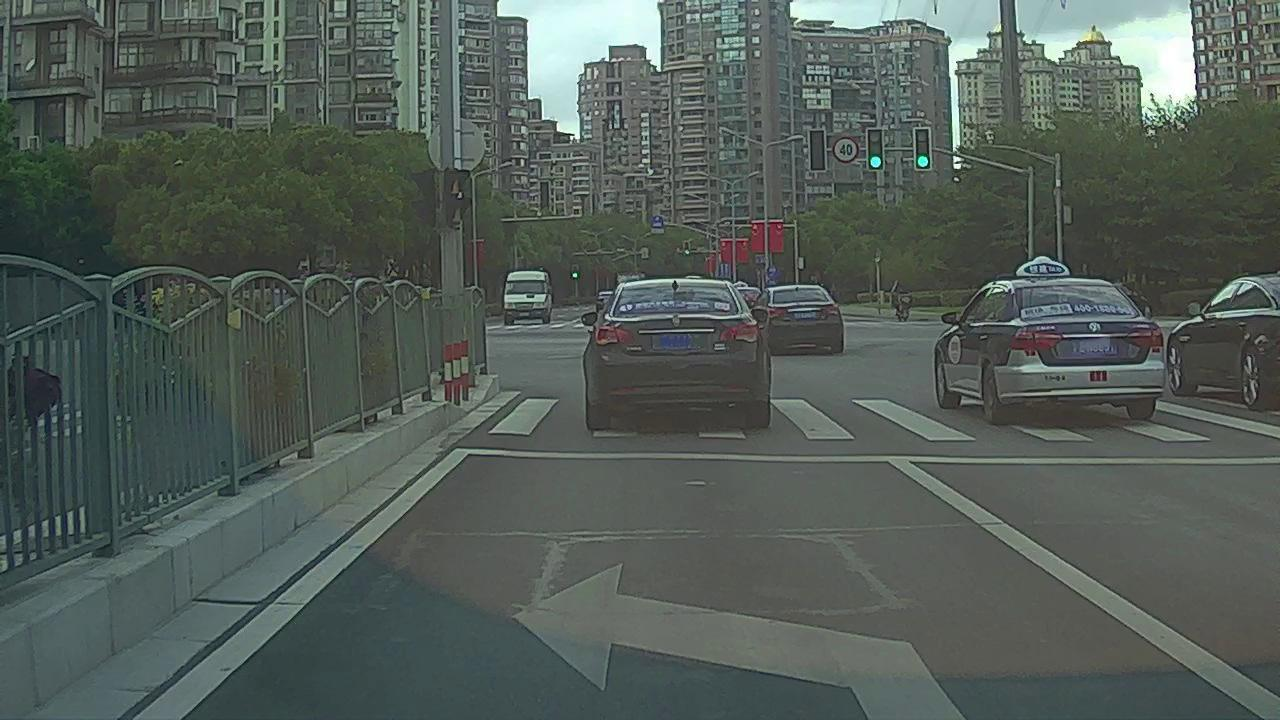traffic_light: (809, 129, 826, 170), (915, 129, 931, 169), (868, 130, 882, 168)
